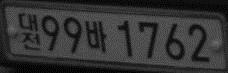1: (115, 20, 135, 57)
2: (187, 23, 210, 62)
6: (164, 23, 186, 61)
7: (138, 21, 159, 58)
9: (62, 16, 82, 53), (41, 14, 60, 51)
대전_V: (17, 12, 41, 50)
바: (86, 20, 107, 53)
